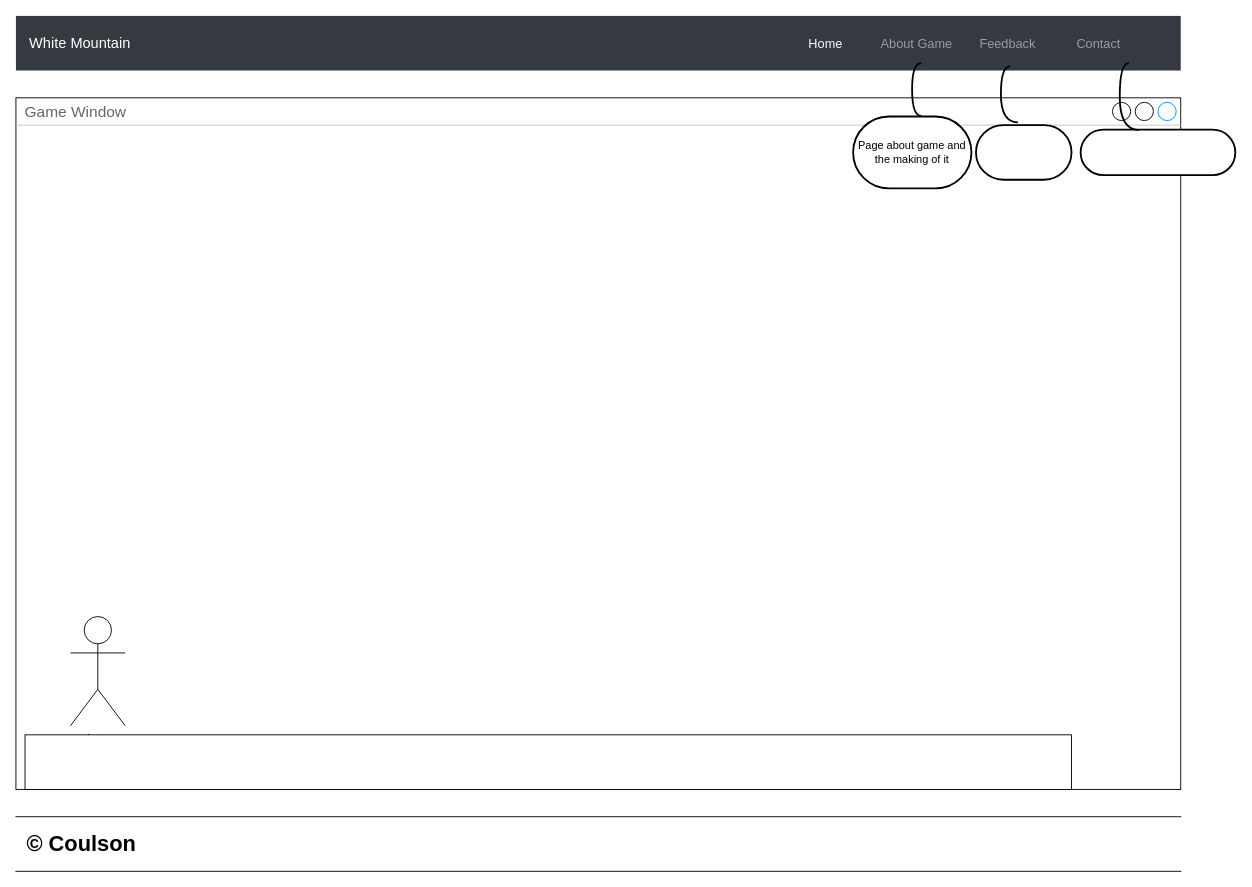
The diagram is 1252 pixels wide and 887 high, and some of its shapes have lost their labels. Here are the shapes that lost their labels. From the top down, the centre of each, then its label:
pixel 1023 152: Feedback page comment style
pixel 1157 152: Further links like GitHub, LinkedIn, Indeed, etc
